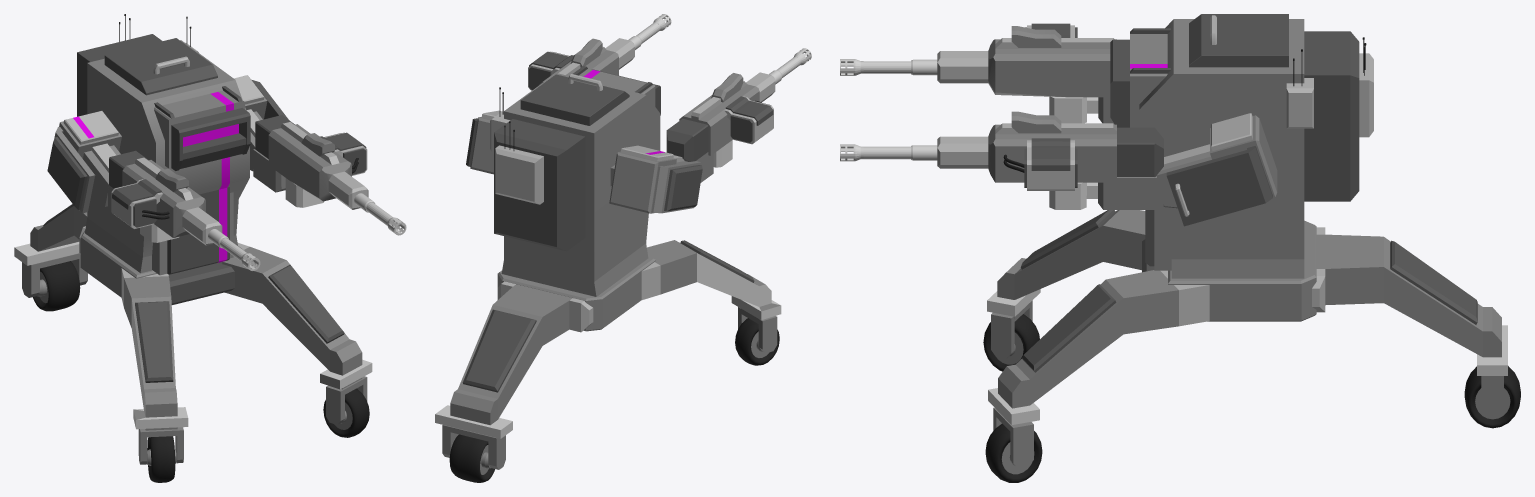
File: Grunt_Enemy_Level2_No_Rig.fbx
3 renders of one model, left to right at view 1: azimuth 30°, elevation 25°; view 2: azimuth 150°, elevation 25°; view 3: azimuth 270°, elevation 25°, orthographic. The views are drawn at different scales.
Visible parts, largest first — view 1: pCylinder60; view 2: pCylinder60; view 3: pCylinder60.
Boxes of the visible parts, box(x1,y1,x2,y2) form: pCylinder60: box(14, 14, 406, 482); pCylinder60: box(435, 14, 811, 482); pCylinder60: box(840, 14, 1520, 482).
Bounding box in the file's own units: 3.42 × 4.66 × 7.05.
